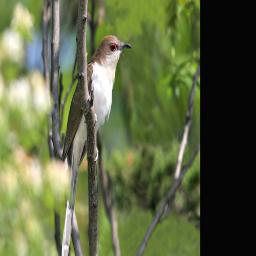Cuckoo: (60, 32, 133, 256)
